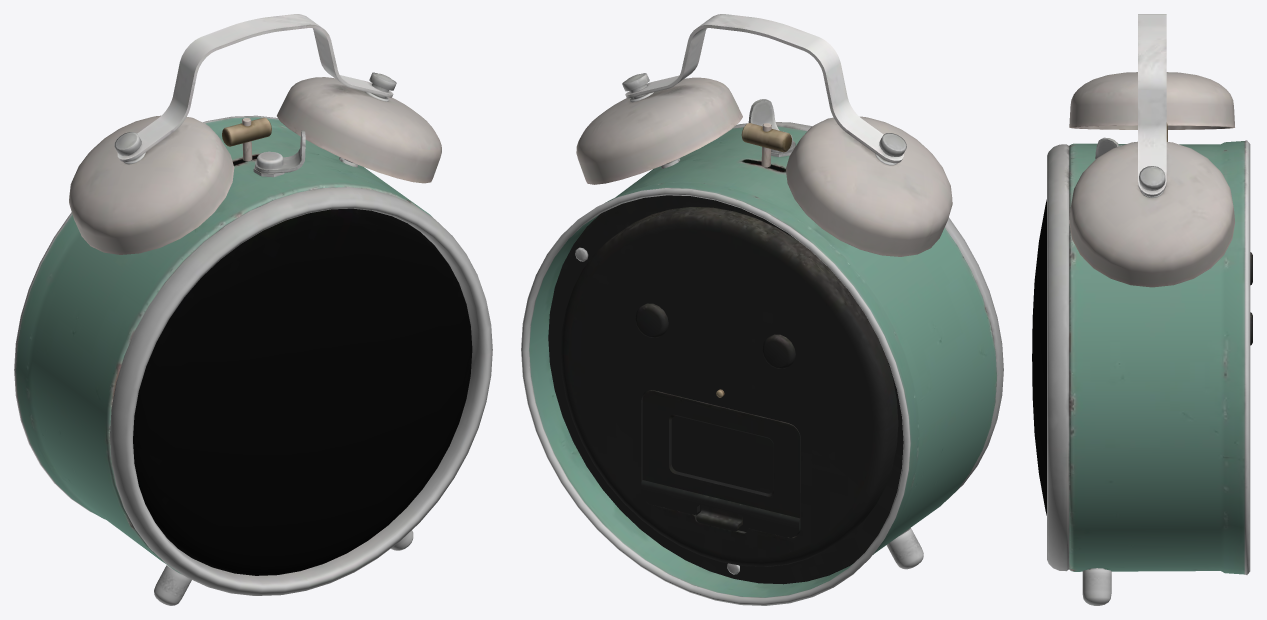
The model's file is alarm_clock.glb.
3 views of the same model, side by side, from view 1: azimuth 30°, elevation 25°; view 2: azimuth 150°, elevation 25°; view 3: azimuth 270°, elevation 25° (orthographic). The views are drawn at different scales.
Parts seen in each view (by area): view 1: alarm_clock_01; view 2: alarm_clock_01; view 3: alarm_clock_01.
Boxes of the visible parts, left/top/right/bottom form: alarm_clock_01: left=14, top=14, right=492, bottom=605; alarm_clock_01: left=521, top=14, right=1003, bottom=605; alarm_clock_01: left=1032, top=14, right=1252, bottom=605.
Bounding box in the file's own units: 0.1317 × 0.1742 × 0.0667.
Materials: 2 (2 with a texture image).
